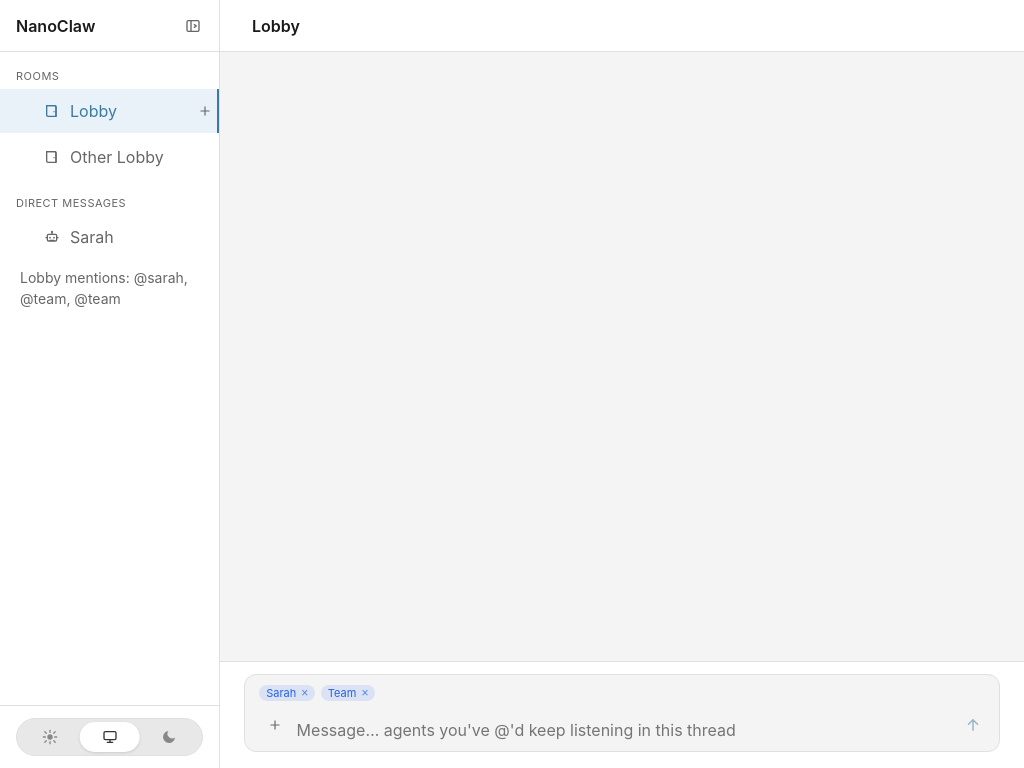
App › restores engaged agents when disengage request fails
Click the button named "Stop Sarah from listening" at coordinates (305, 693), box [298,686,312,700]
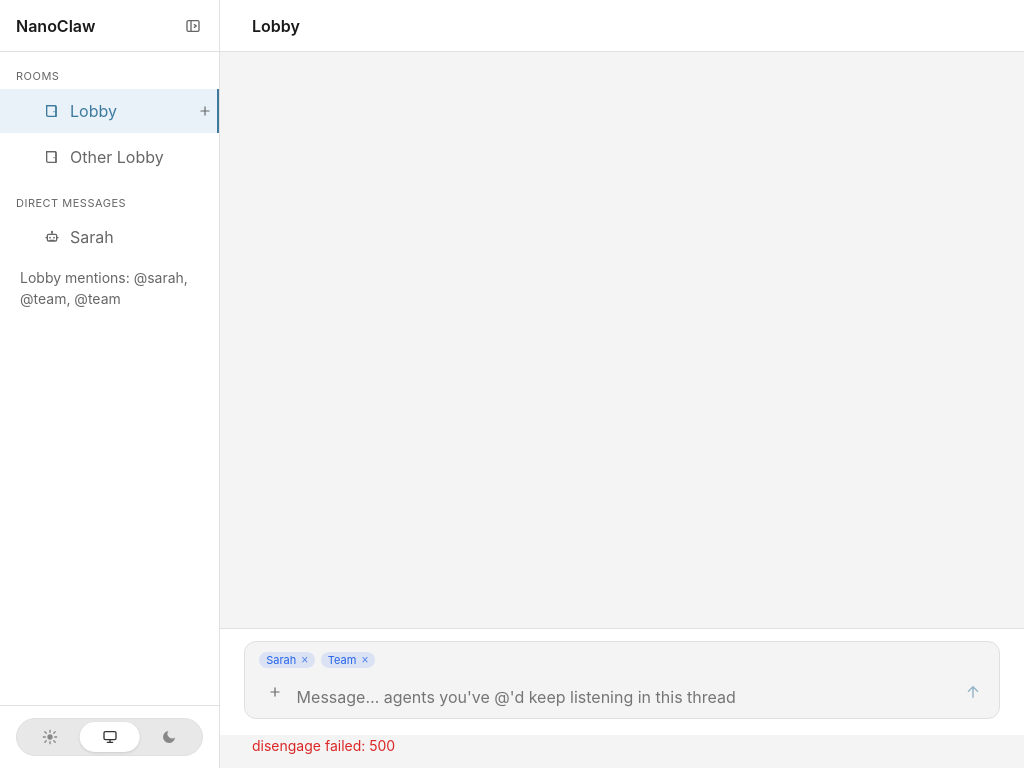
expect the button named "Stop Sarah from listening" is shown: met, box [298,653,312,667]
expect the text "disengage failed: 500" is shown: met, box [252,737,395,754]
